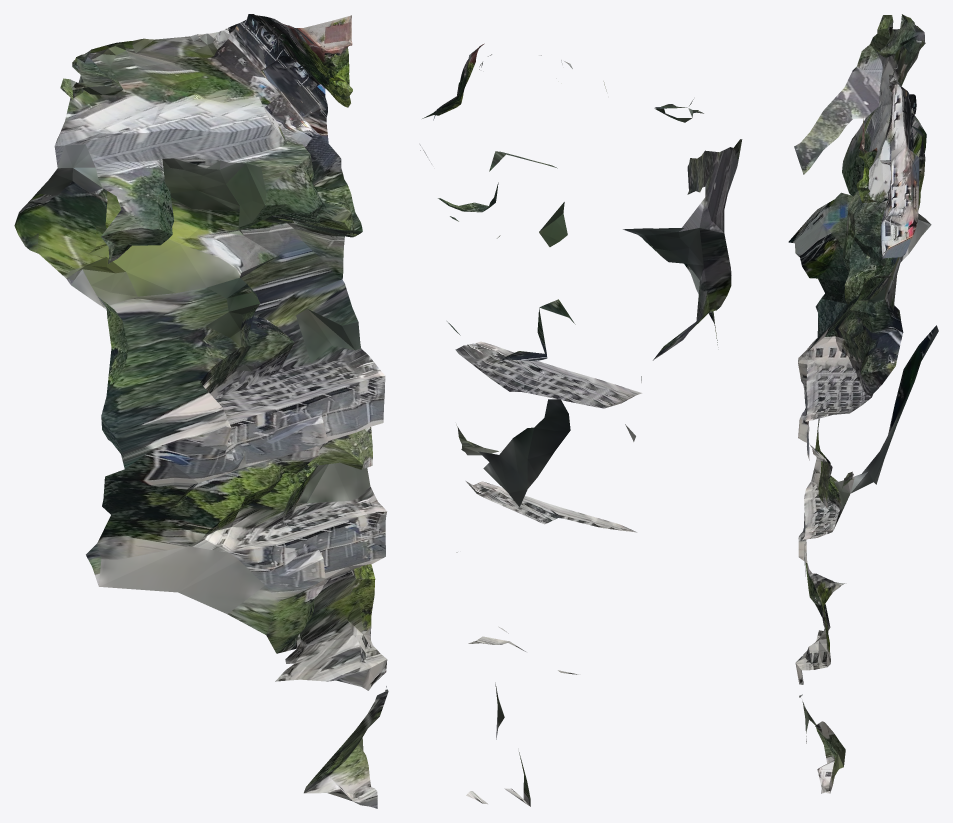
Rendered from Tile_+000_+002.glb.
3 renders of one model, left to right at view 1: azimuth 30°, elevation 25°; view 2: azimuth 150°, elevation 25°; view 3: azimuth 270°, elevation 25°, orthographic. The views are drawn at different scales.
Visible parts, largest first — view 1: Node; view 2: Node; view 3: Node.
Boxes of the visible parts, left/top/right/bottom form: Node: left=14, top=14, right=388, bottom=808; Node: left=420, top=43, right=742, bottom=806; Node: left=788, top=14, right=938, bottom=793.
Size of the model in its own units: 76.78 by 187 by 37.32.
Materials: 1 (1 with a texture image).
